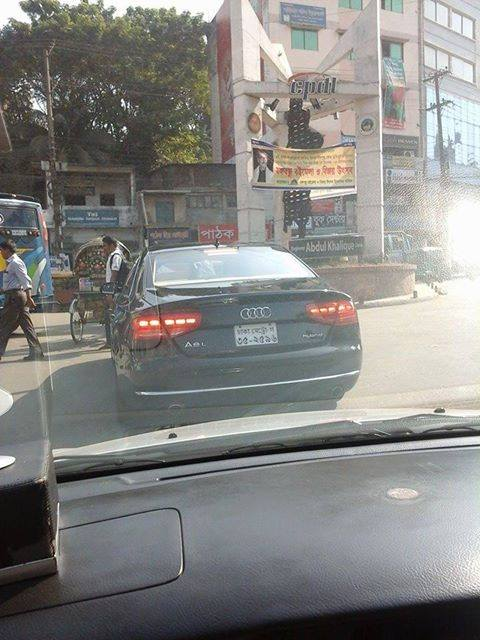registration_plate: (232, 321, 280, 347)
